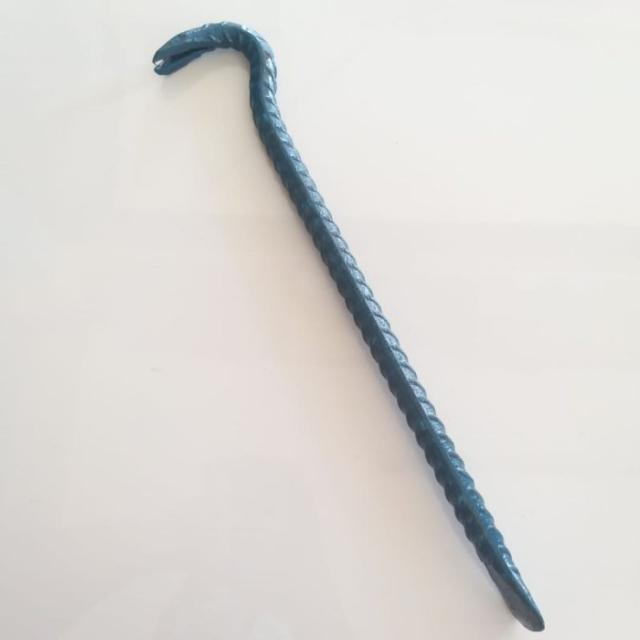Linggis: (152, 9, 562, 636)
